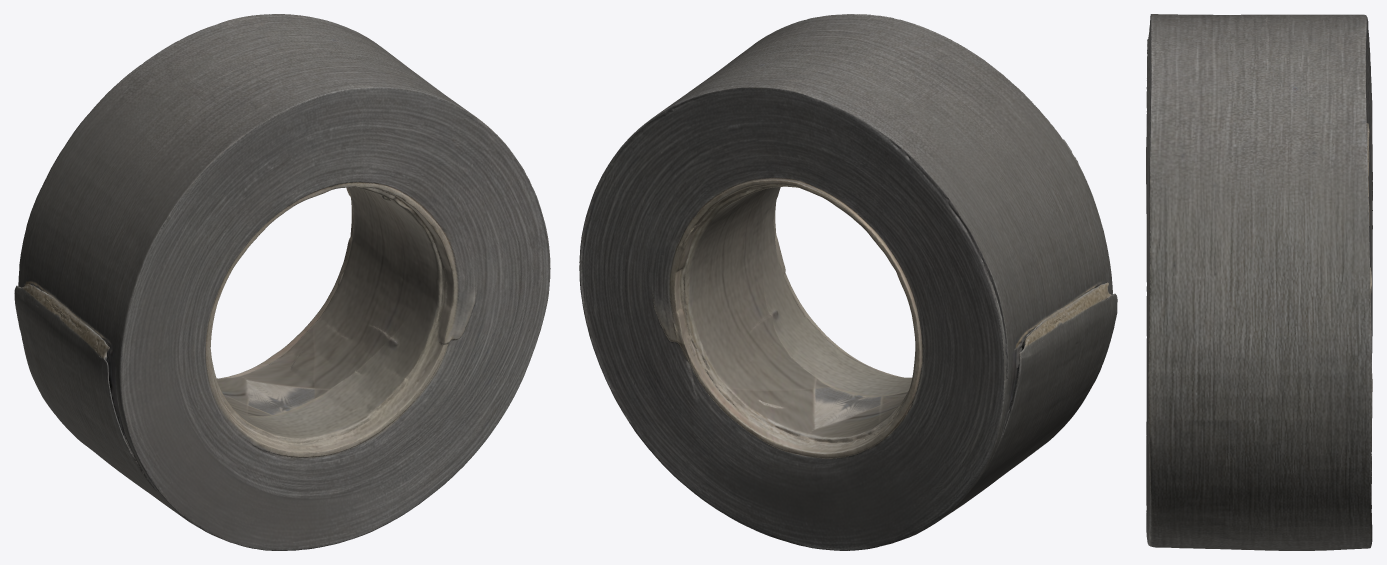
Rendered from SealTape.glb.
The picture shows the model from 3 angles, left to right: view 1: azimuth 30°, elevation 25°; view 2: azimuth 150°, elevation 25°; view 3: azimuth 270°, elevation 25°; orthographic projection. The views are drawn at different scales.
Visible parts, largest first — view 1: texture_mapping; view 2: texture_mapping; view 3: texture_mapping.
Part boxes in pixels (x1,y1,x2,y2): texture_mapping: [14, 14, 550, 550]; texture_mapping: [579, 14, 1117, 550]; texture_mapping: [1146, 14, 1372, 550].
Size of the model in its own units: 0.982 by 0.973 by 0.4092.
Materials: 1 (1 with a texture image).
